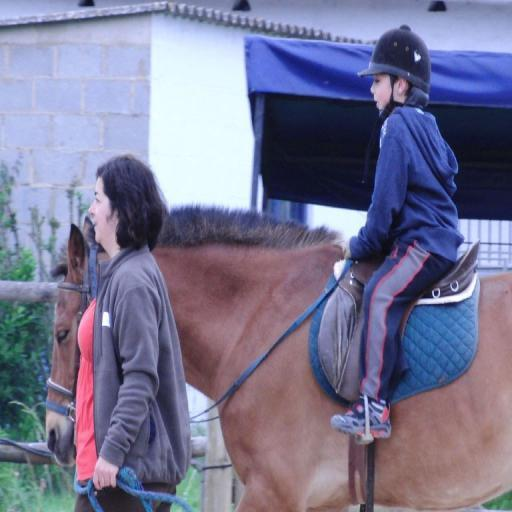horse: (42, 200, 512, 512)
